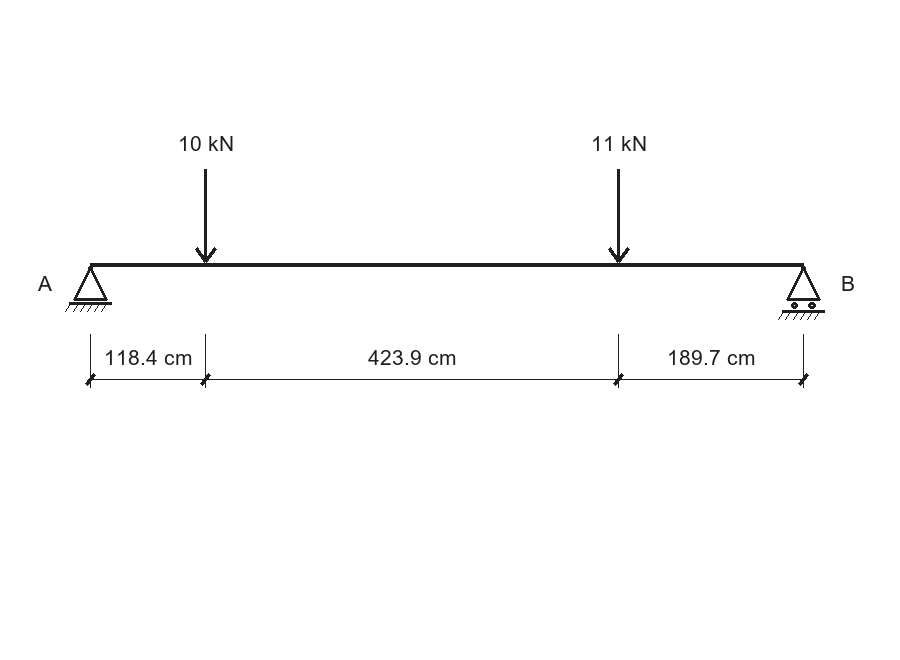pin_support: (65, 266, 112, 312)
point_load: (195, 169, 217, 263), (608, 169, 630, 263)
roller_support: (778, 266, 825, 320)
